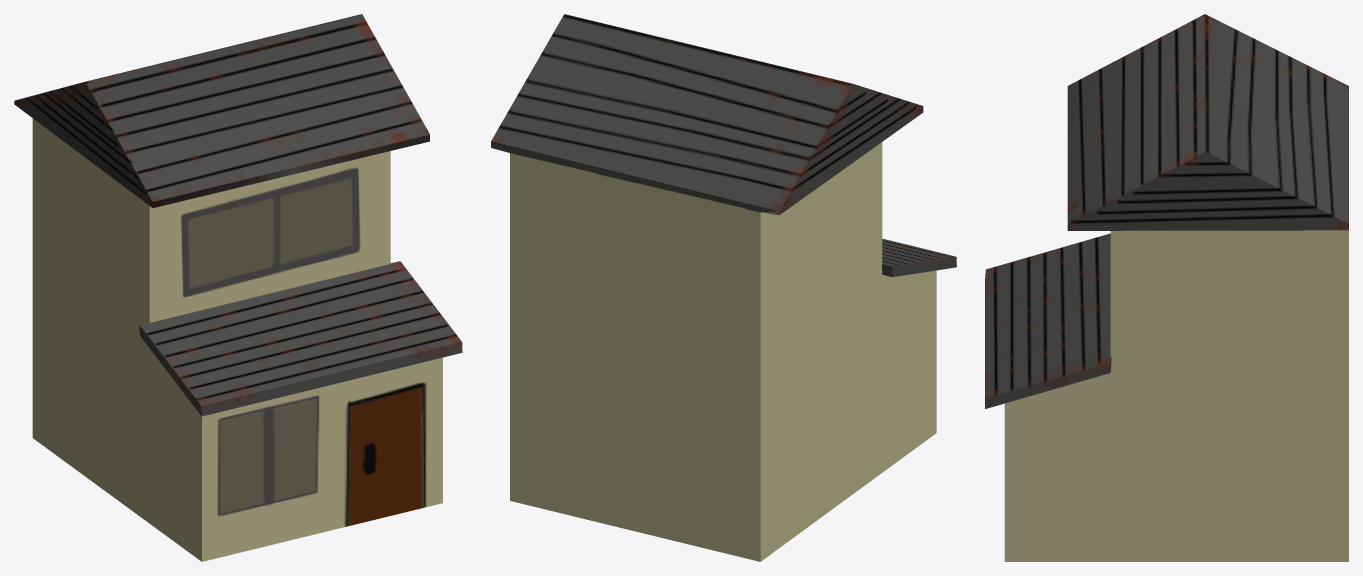
The model's file is House2.fbx.
3 views of the same model, side by side, from view 1: azimuth 30°, elevation 25°; view 2: azimuth 150°, elevation 25°; view 3: azimuth 270°, elevation 25° (orthographic). The views are drawn at different scales.
Parts seen in each view (by area): view 1: House2_House2_House2_pCube1; view 2: House2_House2_House2_pCube1; view 3: House2_House2_House2_pCube1.
Boxes of the visible parts, box(x1,y1,x2,y2) form: House2_House2_House2_pCube1: box(14, 14, 462, 561); House2_House2_House2_pCube1: box(491, 14, 956, 561); House2_House2_House2_pCube1: box(985, 14, 1348, 561).
Size of the model in its own units: 0.0472 by 0.0671 by 0.0528.
1 material, 1 textured.
